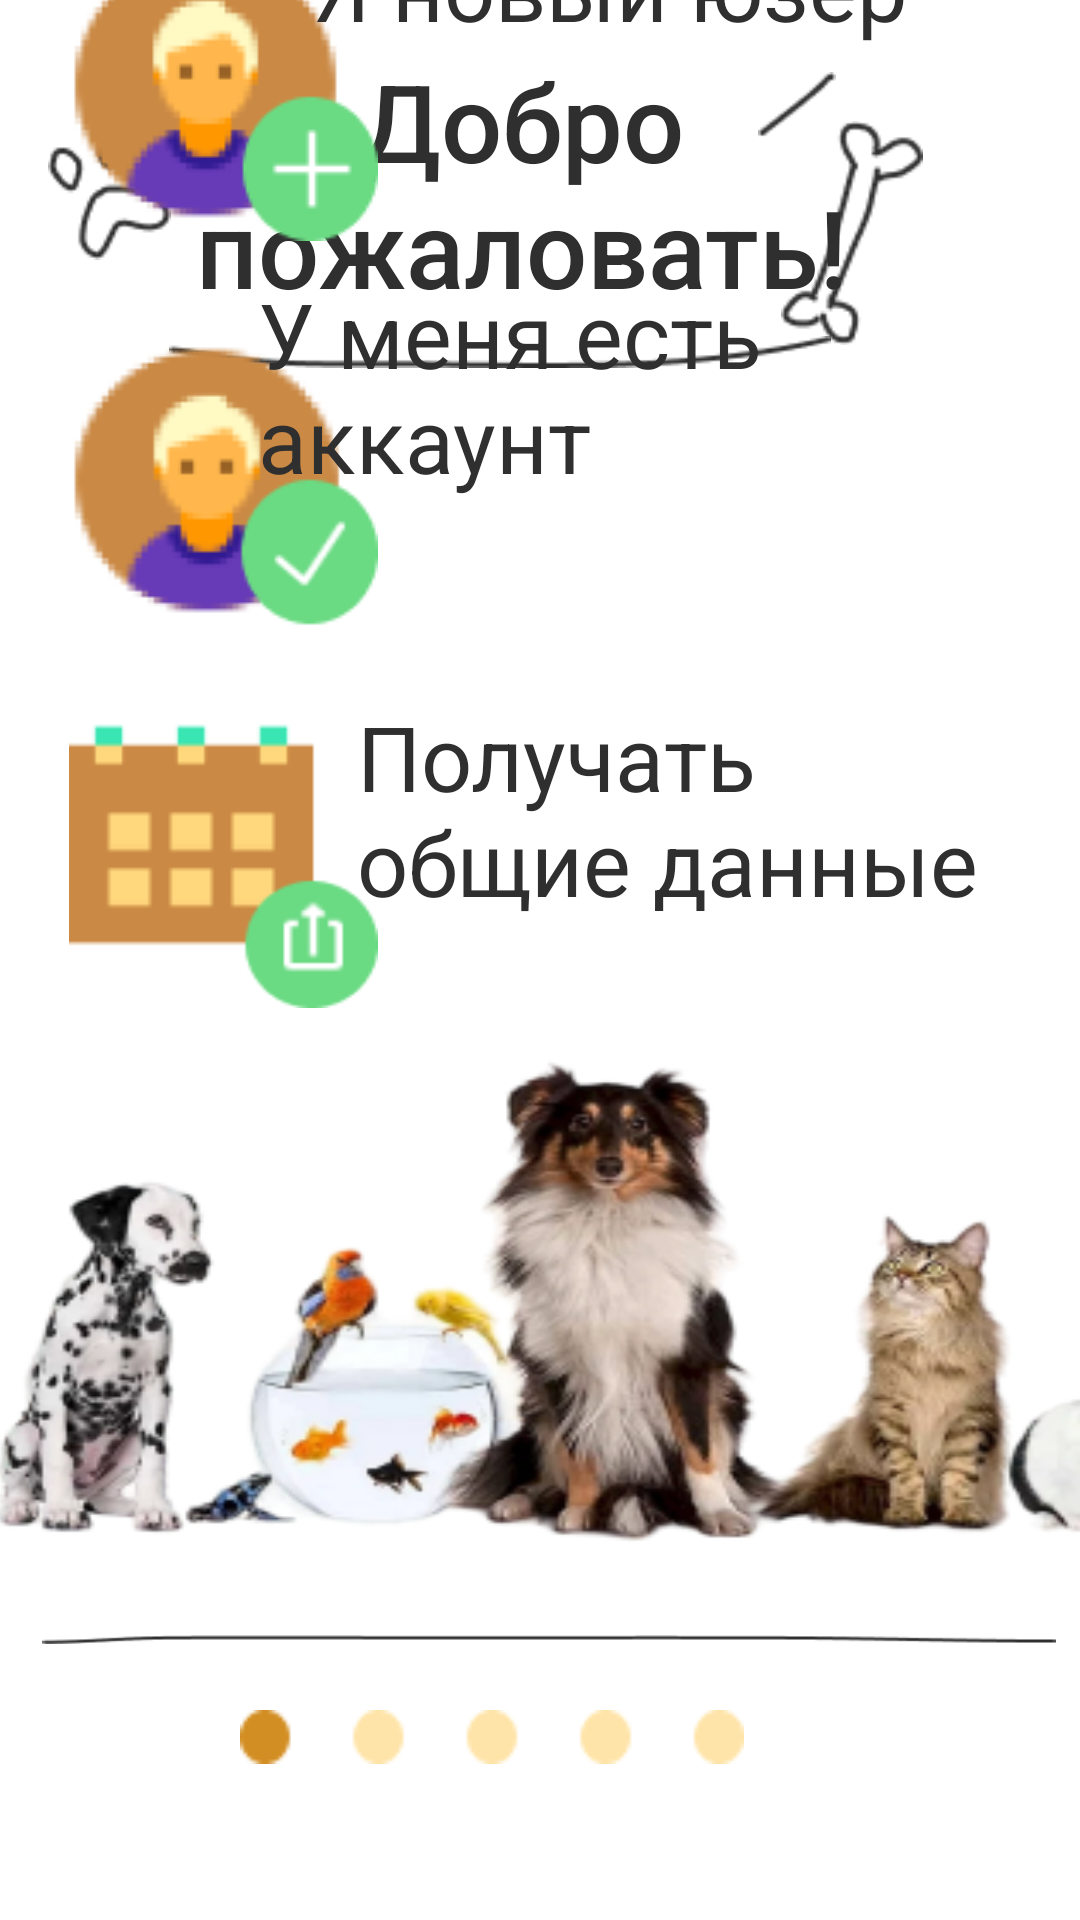

Icon click points for this 1080×1920 phone screenshot, format (x=x, y=y):
bones: (x=852, y=233)
